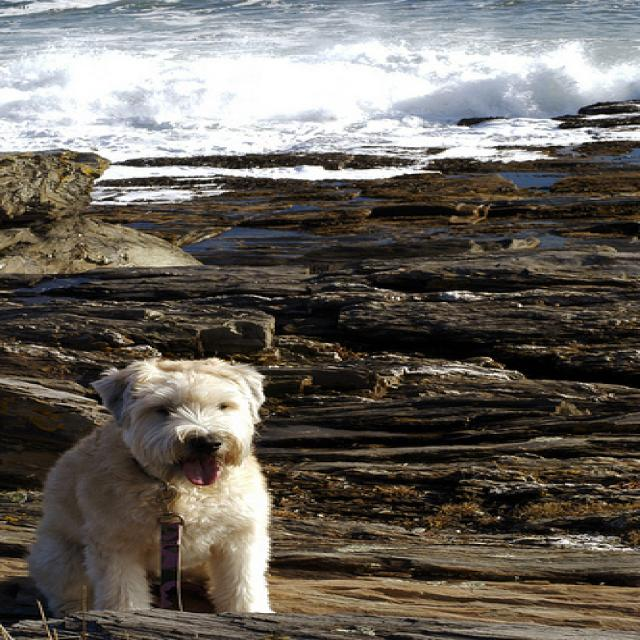dog-wheaten_terrier: (25, 353, 281, 628)
